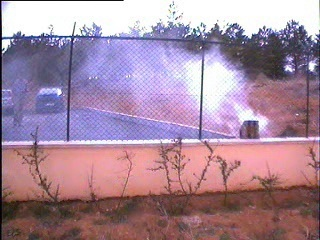smoke: (94, 34, 268, 132)
